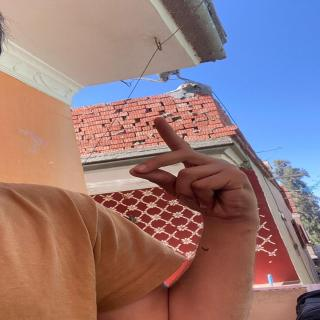TAA: (125, 113, 268, 222)
